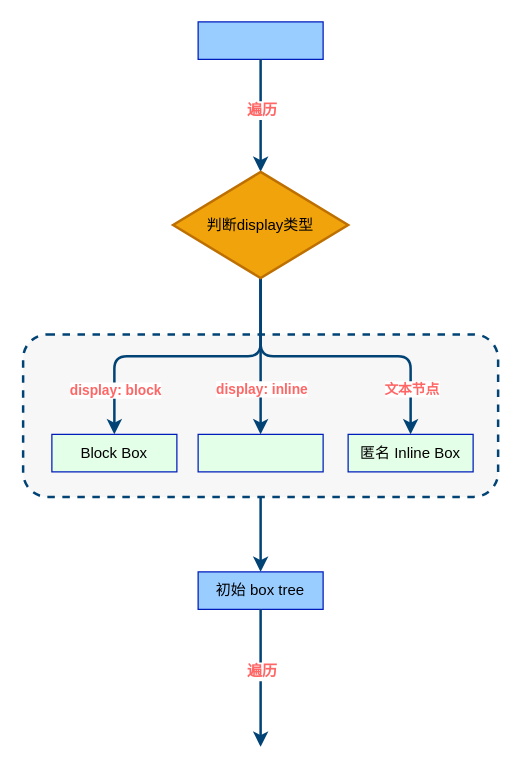
Some shapes in this 520 by 780 pixel diagram are drawn without their labels. The shapes that lost their labels are listed below. From the top down, each one's box as (x1, y1, x2, y2) in pixels, then its label:
(197, 21, 323, 59): style tree
(197, 433, 323, 472): Inline Box
